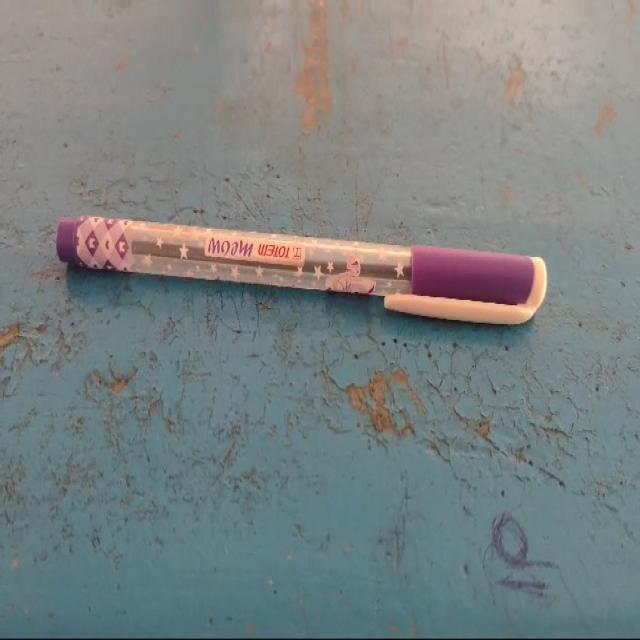pen: (27, 154, 587, 424)
